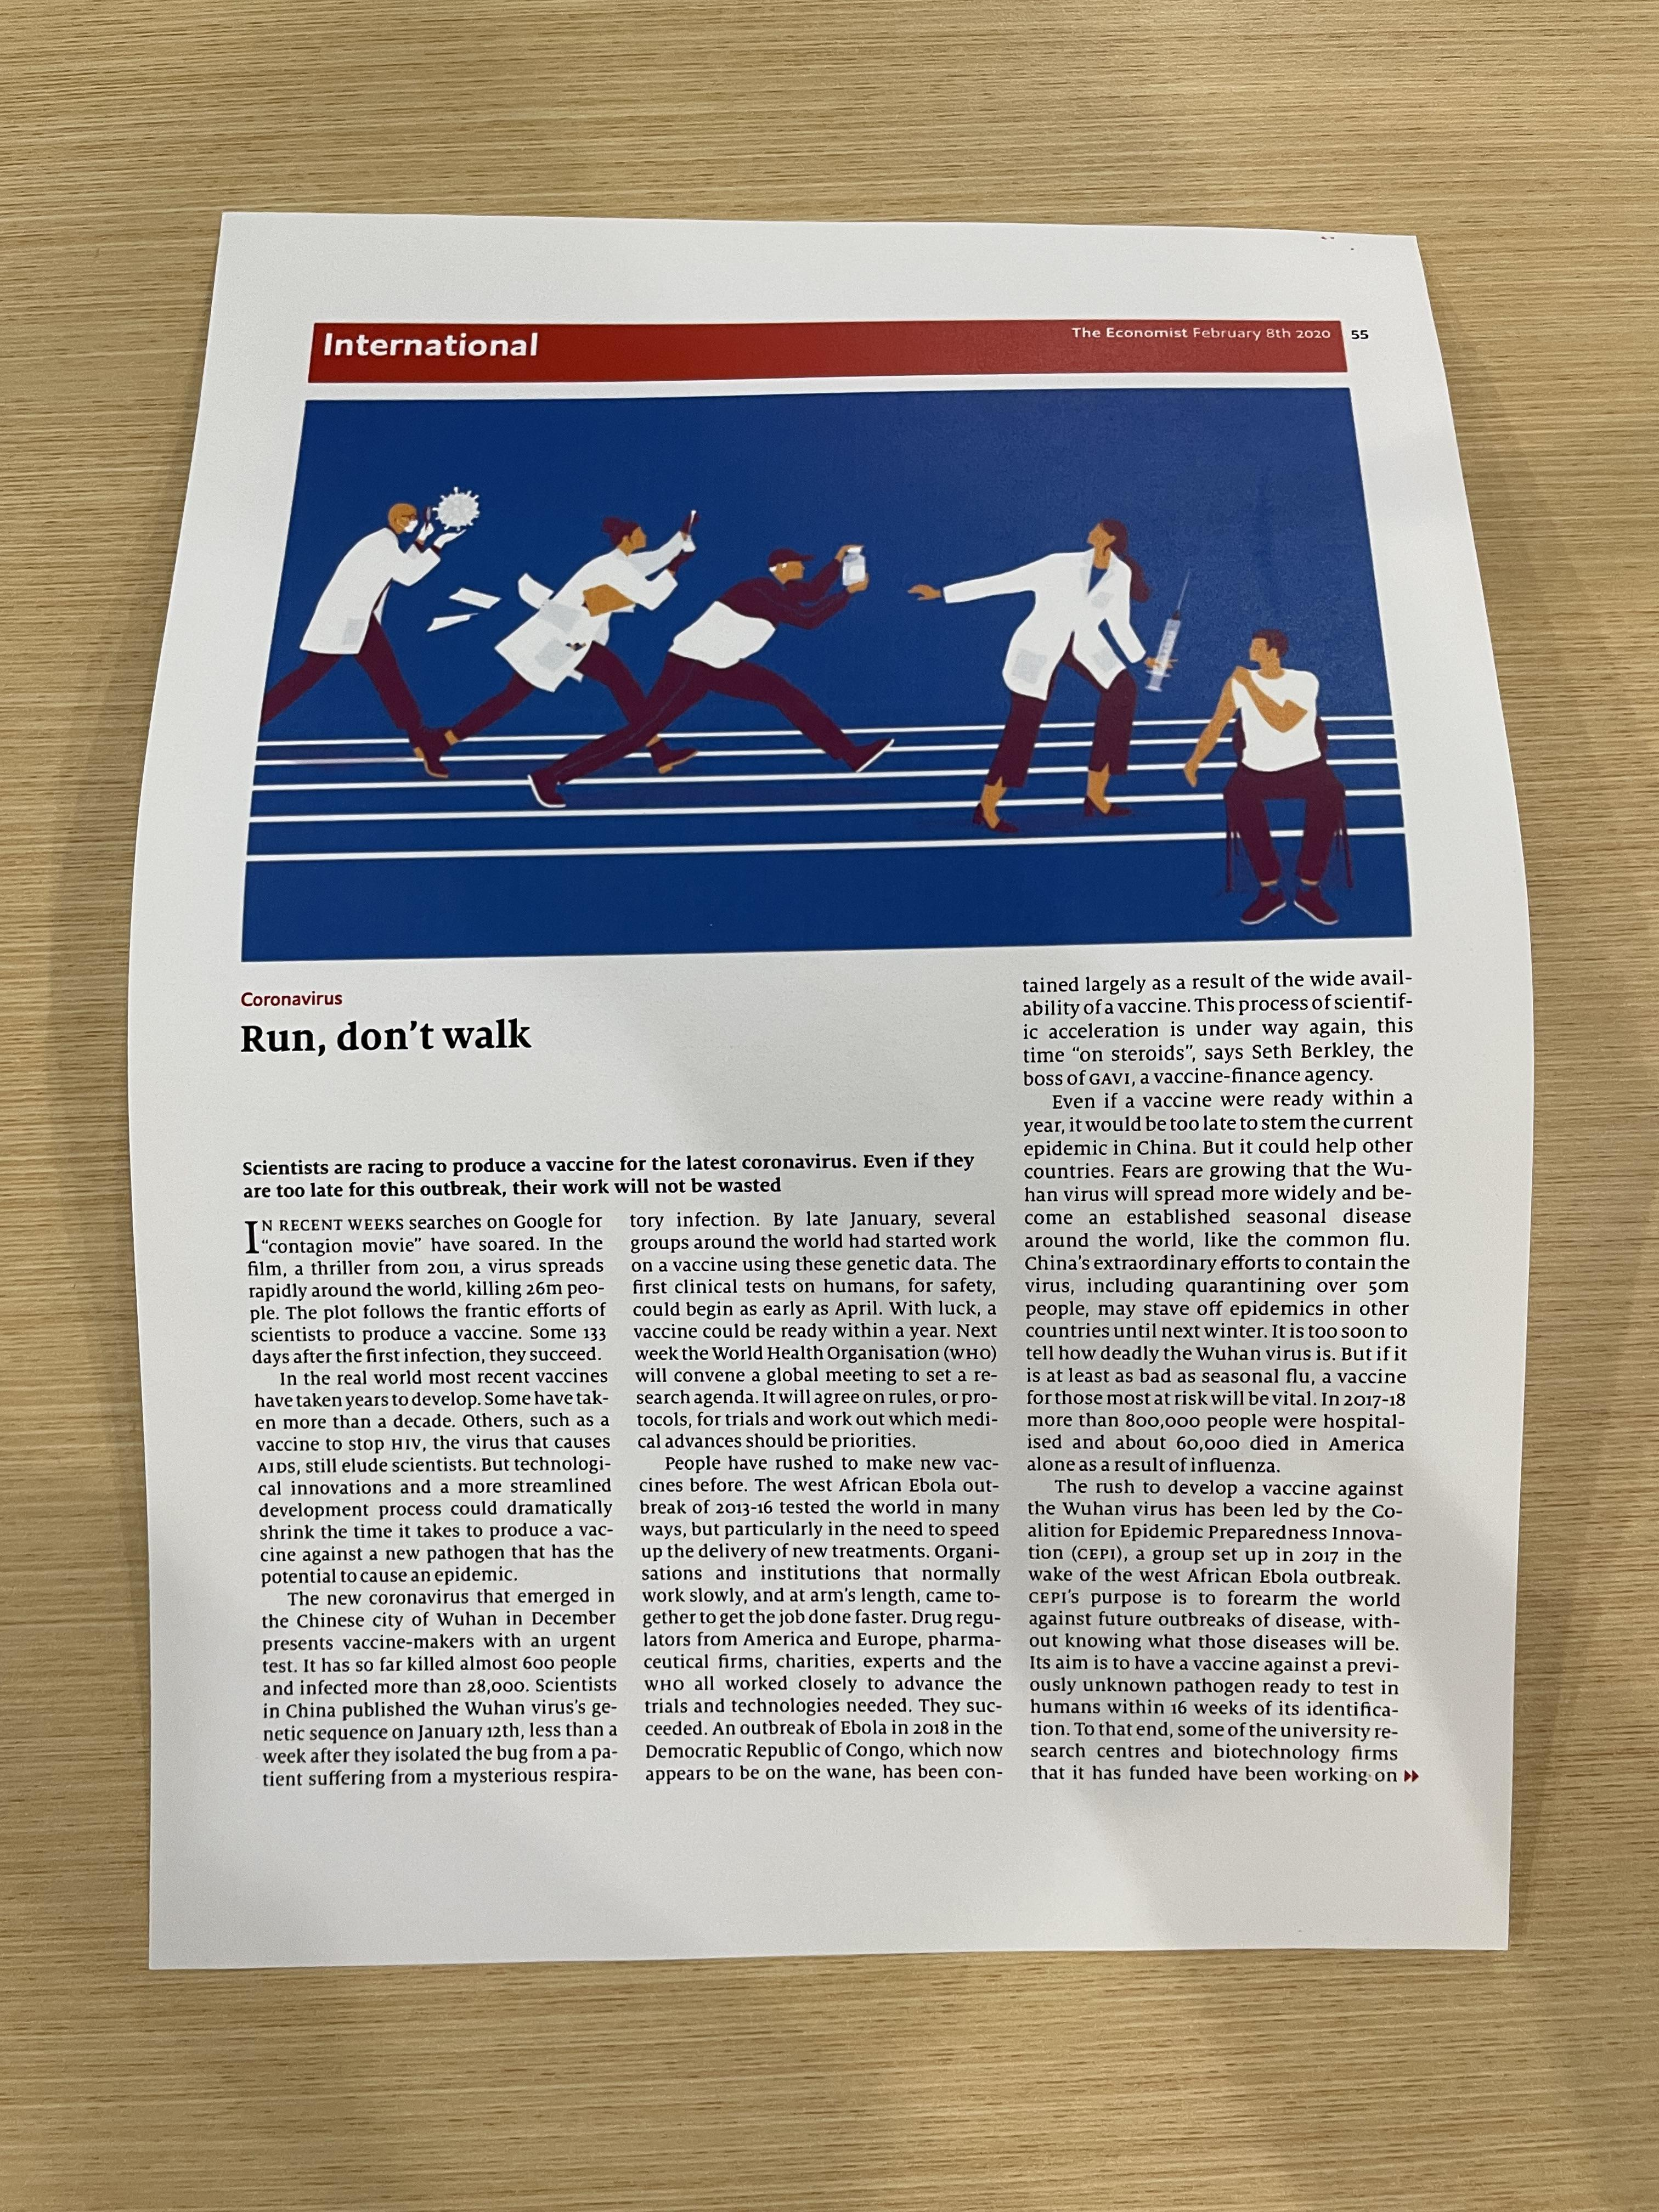paper: (19, 88, 1659, 2063)
